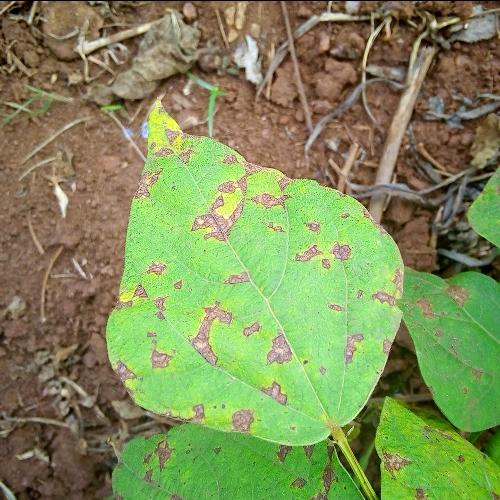hawar: (105, 94, 402, 447)
